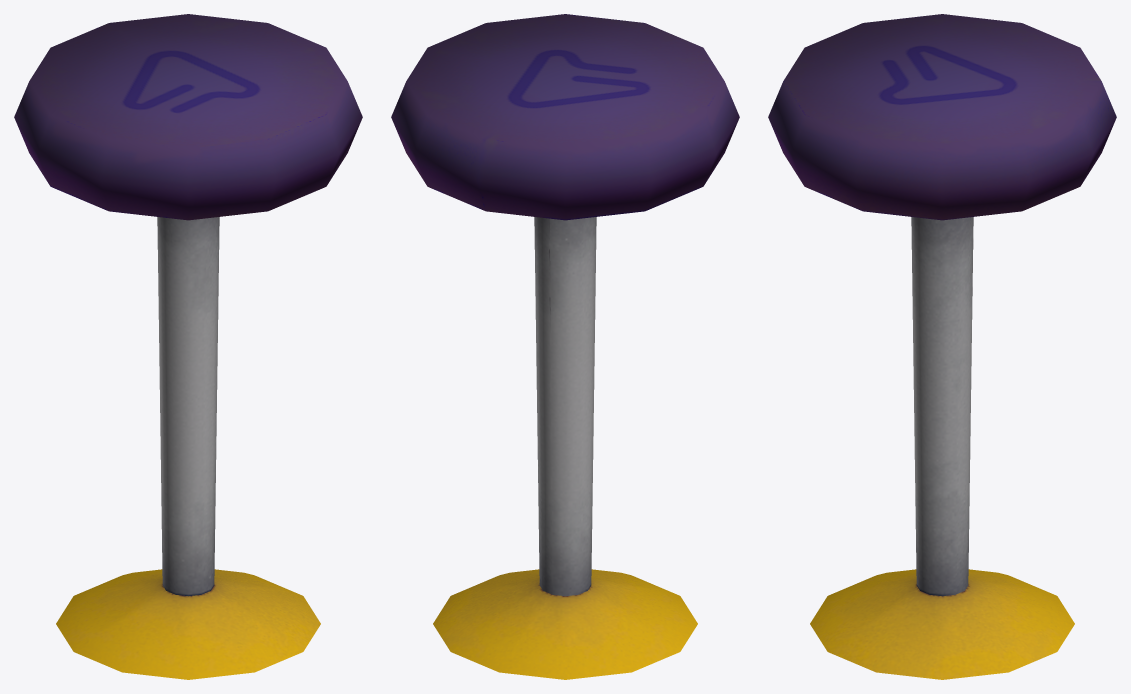
File: CHAIR1.FBX
3 renders of one model, left to right at view 1: azimuth 30°, elevation 25°; view 2: azimuth 150°, elevation 25°; view 3: azimuth 270°, elevation 25°, orthographic.
Visible parts, largest first — view 1: CHAIR1; view 2: CHAIR1; view 3: CHAIR1.
Boxes of the visible parts, x1,y1,x2,y2 form: CHAIR1: (14,14,362,679); CHAIR1: (391,14,739,679); CHAIR1: (768,14,1116,679).
Size of the model in its own units: 78.47 by 135 by 78.47.
1 material, 1 textured.
